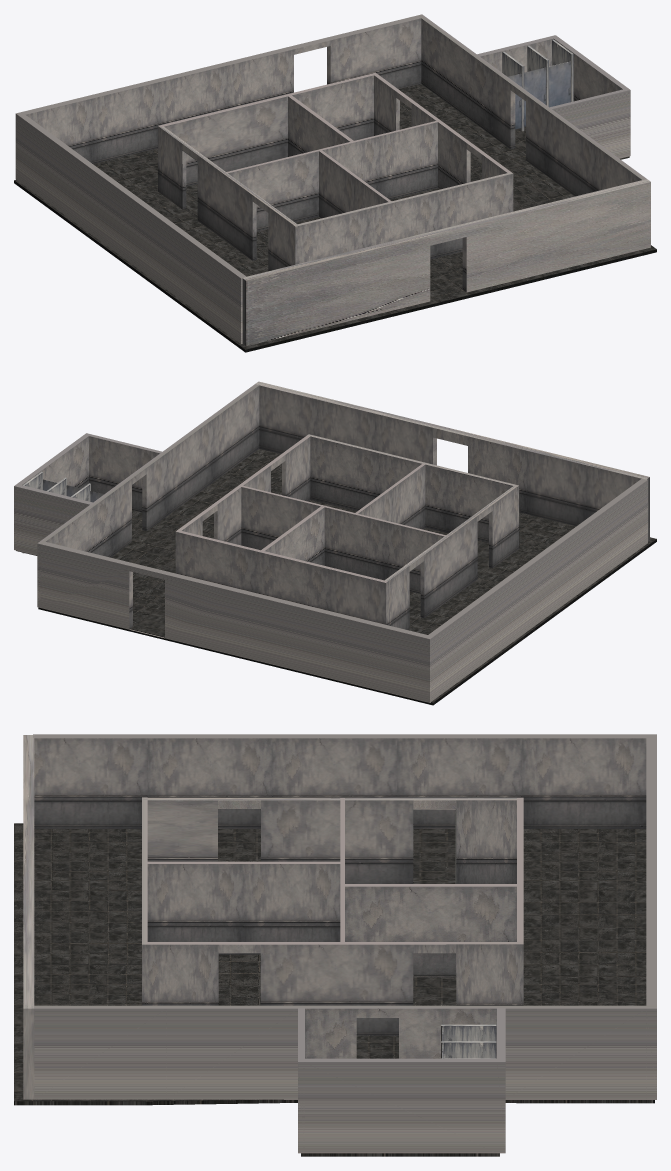
The model's file is MapaFinal_real.fbx.
3 renders of one model, top to bottom at view 1: azimuth 30°, elevation 25°; view 2: azimuth 150°, elevation 25°; view 3: azimuth 270°, elevation 25°, orthographic. The views are drawn at different scales.
Visible parts, largest first — view 1: Paredes de fora.002, Paredes de dentro.002, Chao.001, Cube.002, Plane.003, Plane.001; view 2: Paredes de fora.002, Paredes de dentro.002, Chao.001, Cube.002; view 3: Paredes de fora.002, Paredes de dentro.002, Chao.001, Cube.002.
Part boxes in pixels (box(x1,y1,x2,y2)): Paredes de fora.002: box(15, 14, 650, 346); Paredes de dentro.002: box(158, 72, 513, 271); Chao.001: box(14, 84, 656, 352); Cube.002: box(502, 39, 573, 131); Plane.003: box(549, 61, 570, 107); Plane.001: box(524, 67, 546, 126); Paredes de fora.002: box(14, 381, 649, 702); Paredes de dentro.002: box(175, 434, 519, 629); Chao.001: box(16, 449, 656, 705); Cube.002: box(22, 471, 90, 553); Paredes de fora.002: box(23, 734, 656, 1153); Paredes de dentro.002: box(142, 797, 523, 1035); Chao.001: box(14, 823, 654, 1156); Cube.002: box(441, 1024, 496, 1058).
Bounding box in the file's own units: 4546 × 629 × 3750.
